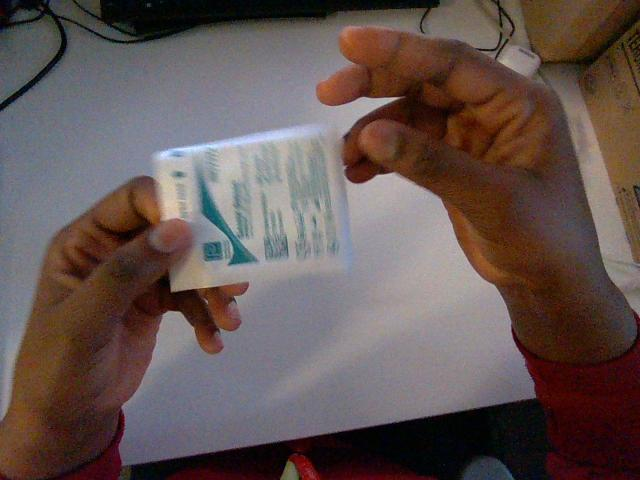gauze: (153, 125, 350, 291)
